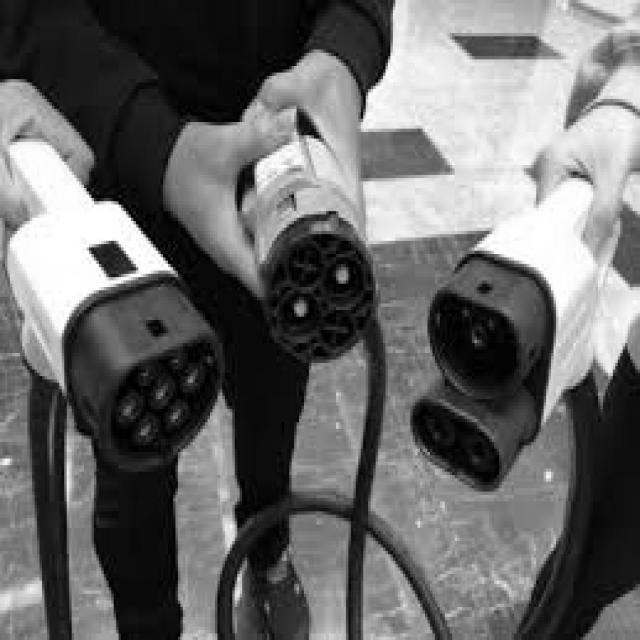Type 2: (60, 312, 245, 493)
